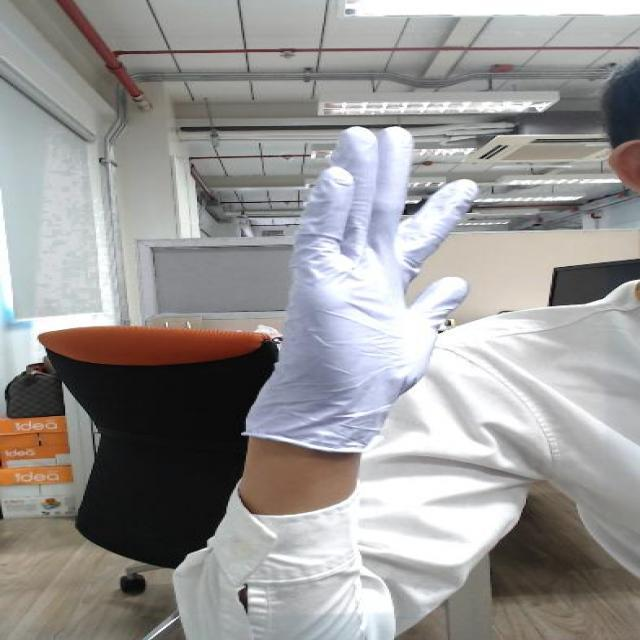with_gloves: (250, 112, 496, 388)
